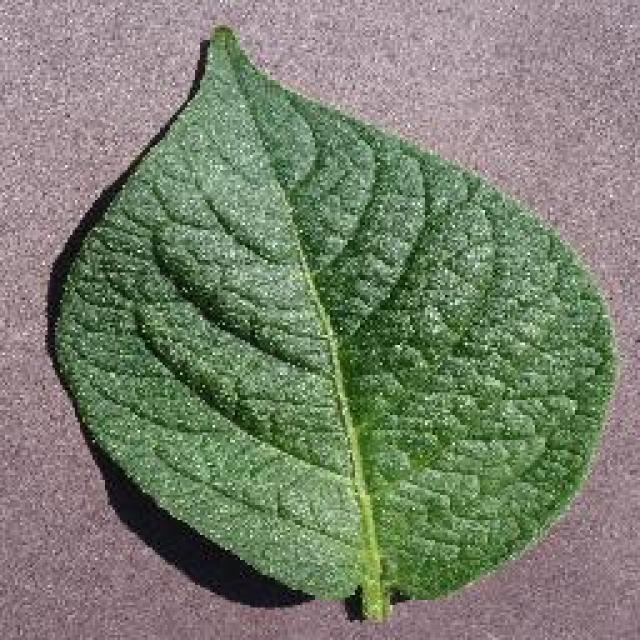Potato: (45, 22, 620, 622)
